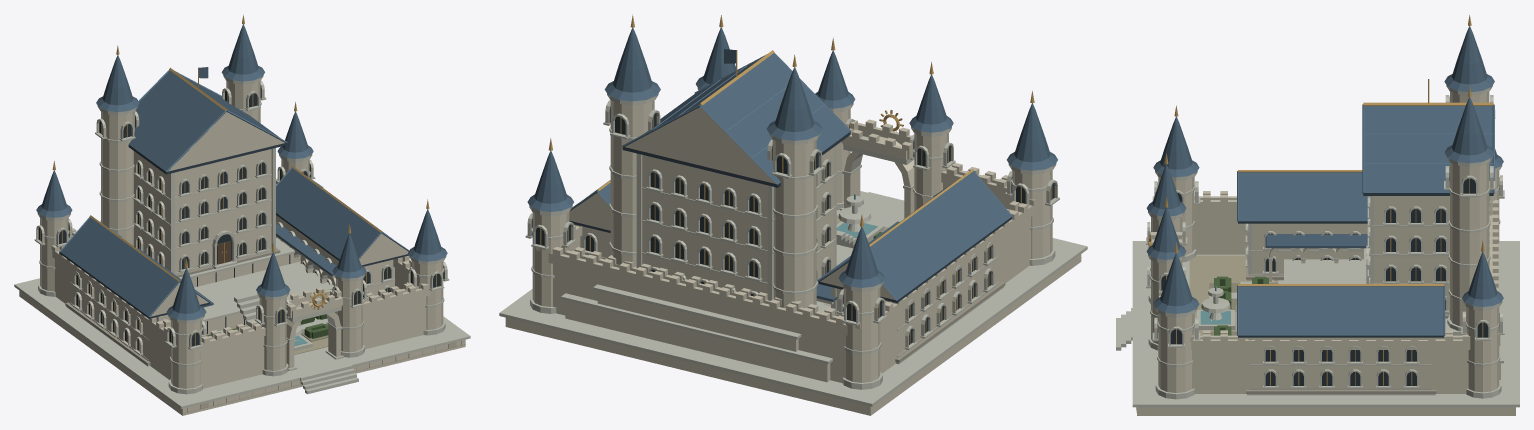
Rendered from river.glb.
3 renders of one model, left to right at view 1: azimuth 30°, elevation 25°; view 2: azimuth 150°, elevation 25°; view 3: azimuth 270°, elevation 25°, orthographic. The views are drawn at different scales.
Visible parts, largest first — view 1: citadel, citadel-roof, precinct-base, inhabited-detail; view 2: citadel, citadel-roof, precinct-base; view 3: citadel, citadel-roof, precinct-base, inhabited-detail.
Part boxes in pixels (x1,y1,x2,y2): citadel: (34, 67, 449, 394); citadel-roof: (36, 14, 447, 320); precinct-base: (14, 278, 470, 415); inhabited-detail: (183, 341, 465, 413); citadel: (525, 49, 1059, 389); citadel-roof: (527, 14, 1057, 302); precinct-base: (499, 191, 1087, 415); citadel: (1146, 79, 1504, 399); citadel-roof: (1146, 15, 1503, 337); precinct-base: (1132, 241, 1519, 415); inhabited-detail: (1116, 308, 1136, 412).
Size of the model in its own units: 23.5 by 19.18 by 24.52.
